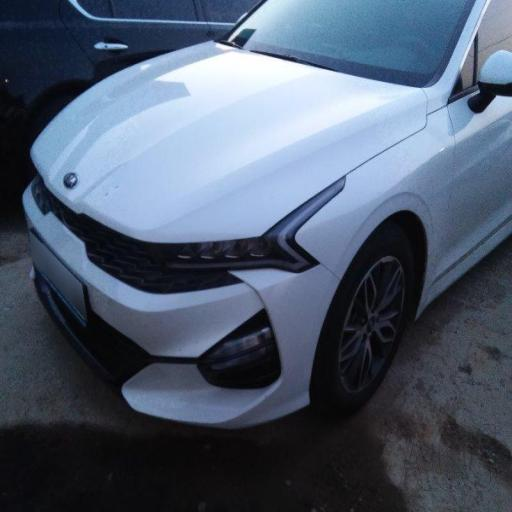normal: (20, 29, 506, 451)
